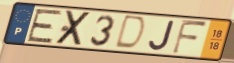3: (89, 14, 116, 48)
D: (112, 14, 148, 52)
E: (25, 8, 64, 45)
F: (170, 18, 209, 56)
J: (147, 19, 176, 52)
X: (53, 9, 94, 47)
